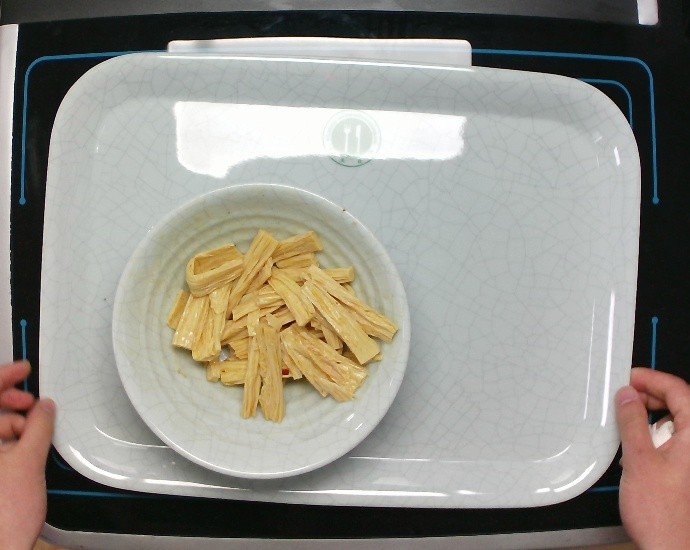JYsf-Xiao_Tang_Wan: (109, 180, 413, 483)
